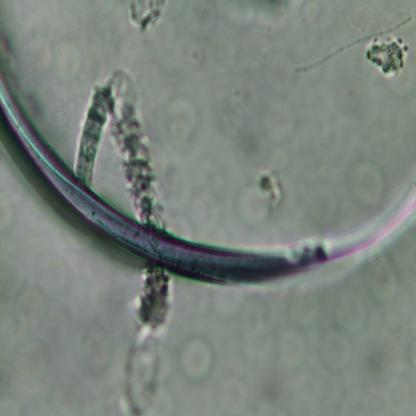Background material: (72, 69, 169, 230), (128, 267, 180, 337), (120, 334, 161, 412), (362, 32, 413, 84), (347, 154, 390, 214), (186, 338, 219, 380), (126, 0, 171, 30), (258, 168, 285, 212)
Microfibre: (0, 77, 416, 287)
